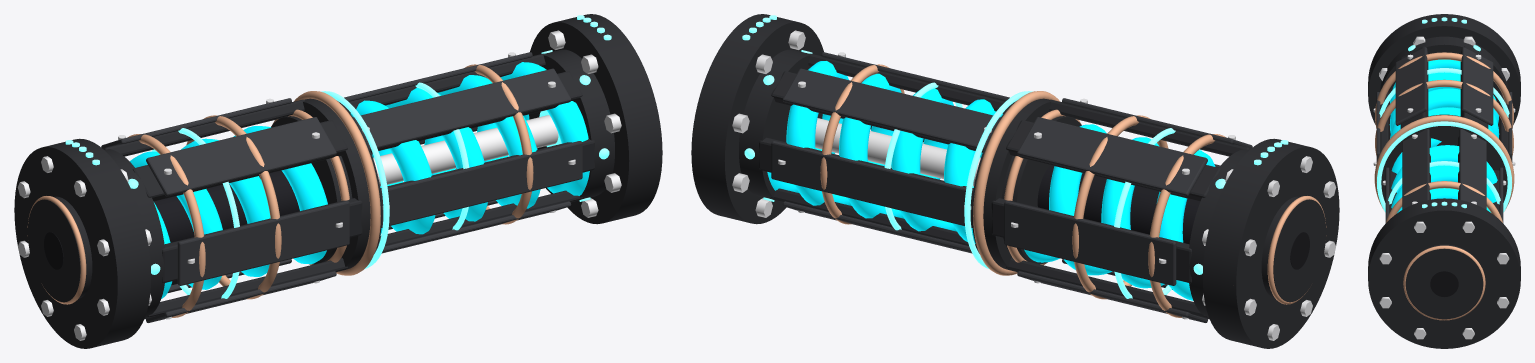
File: offroad_suspension_5.glb
3 renders of one model, left to right at view 1: azimuth 30°, elevation 25°; view 2: azimuth 150°, elevation 25°; view 3: azimuth 270°, elevation 25°, orthographic. The views are drawn at different scales.
Visible parts, largest first — view 1: mountFlex, Stator, mount; view 2: mountFlex, Stator, mount; view 3: mountFlex, mount, Stator.
Boxes of the visible parts, left/top/right/bottom form: mountFlex: left=101, top=49, right=614, bottom=322; Stator: left=14, top=138, right=151, bottom=348; mount: left=530, top=14, right=662, bottom=224; mountFlex: left=739, top=49, right=1252, bottom=322; Stator: left=1202, top=138, right=1339, bottom=348; mount: left=691, top=14, right=823, bottom=224; mountFlex: left=1373, top=36, right=1515, bottom=222; mount: left=1368, top=198, right=1520, bottom=348; Stator: left=1368, top=14, right=1520, bottom=139.
Size of the model in its own units: 0.751 by 0.2385 by 0.236.
